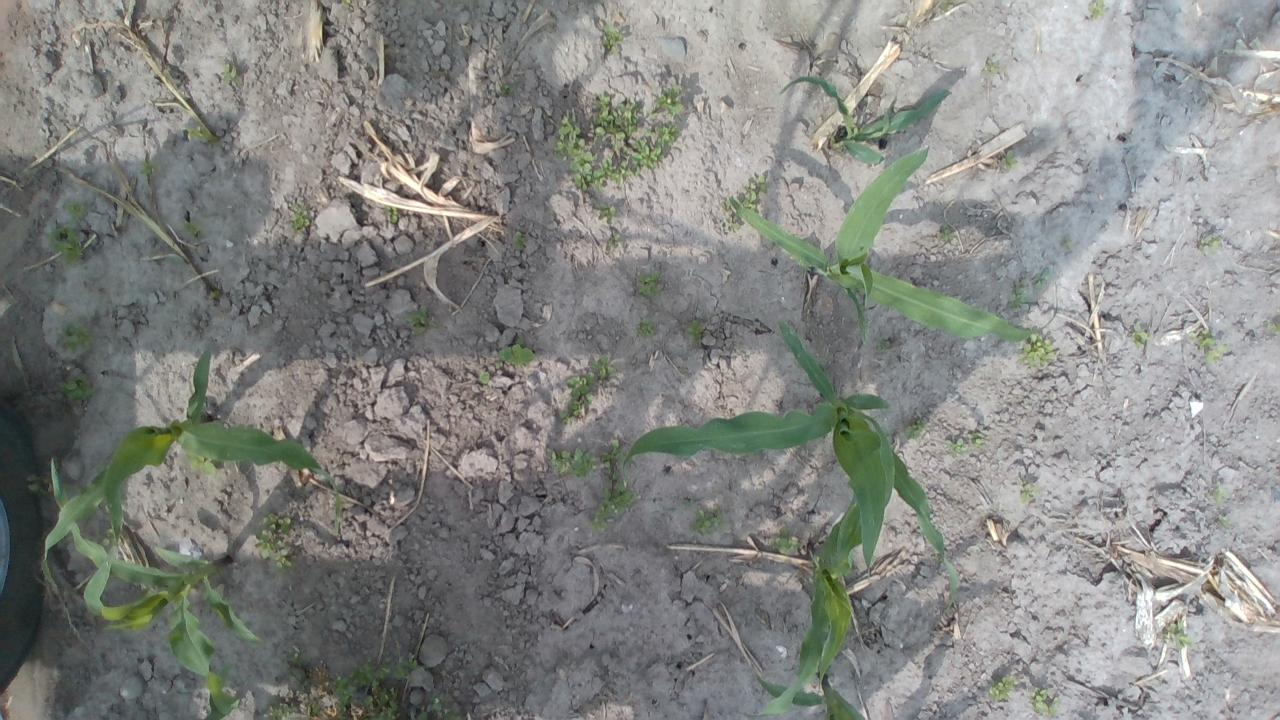Maize: (619, 319, 963, 613), (39, 349, 346, 586), (728, 144, 1059, 344), (48, 455, 264, 720), (746, 478, 864, 720), (779, 67, 952, 165), (754, 663, 868, 720), (200, 669, 233, 720)
Weeds: (589, 126, 685, 188), (332, 654, 420, 720), (590, 438, 636, 528), (552, 109, 593, 190), (594, 88, 640, 140), (254, 512, 294, 571), (559, 372, 594, 424), (550, 446, 598, 481), (1018, 330, 1058, 370), (1188, 327, 1228, 366), (48, 226, 84, 266), (690, 504, 731, 538), (735, 174, 768, 215), (56, 369, 96, 402), (645, 86, 684, 118), (416, 693, 462, 720), (494, 342, 537, 369), (63, 322, 94, 356), (1158, 620, 1192, 650), (1029, 686, 1059, 715), (772, 528, 803, 556), (986, 675, 1020, 700), (636, 270, 665, 299), (404, 304, 428, 336), (600, 23, 623, 56), (24, 471, 52, 498), (61, 198, 90, 224), (590, 352, 617, 379), (288, 201, 312, 230), (264, 700, 298, 720), (904, 415, 928, 441), (1008, 282, 1030, 310), (594, 200, 618, 222), (1198, 236, 1222, 258), (62, 478, 94, 494), (96, 528, 124, 546), (1020, 480, 1041, 504), (1130, 322, 1150, 347), (190, 456, 217, 474), (944, 438, 968, 458), (285, 646, 308, 666), (182, 221, 206, 240), (686, 319, 704, 344), (605, 231, 628, 250), (633, 318, 657, 336), (187, 126, 210, 144), (1088, 0, 1106, 22), (967, 430, 987, 449), (142, 160, 162, 178), (1000, 150, 1018, 170), (222, 63, 240, 82), (726, 213, 742, 233), (936, 224, 954, 241), (1214, 482, 1228, 503), (512, 231, 526, 252), (1032, 272, 1048, 290), (494, 82, 514, 96), (303, 701, 321, 716), (874, 336, 890, 352), (942, 0, 961, 12), (984, 62, 998, 77), (387, 206, 398, 224), (478, 370, 492, 384), (1218, 514, 1232, 527), (825, 128, 836, 144), (1271, 322, 1280, 336), (1062, 239, 1072, 249)
